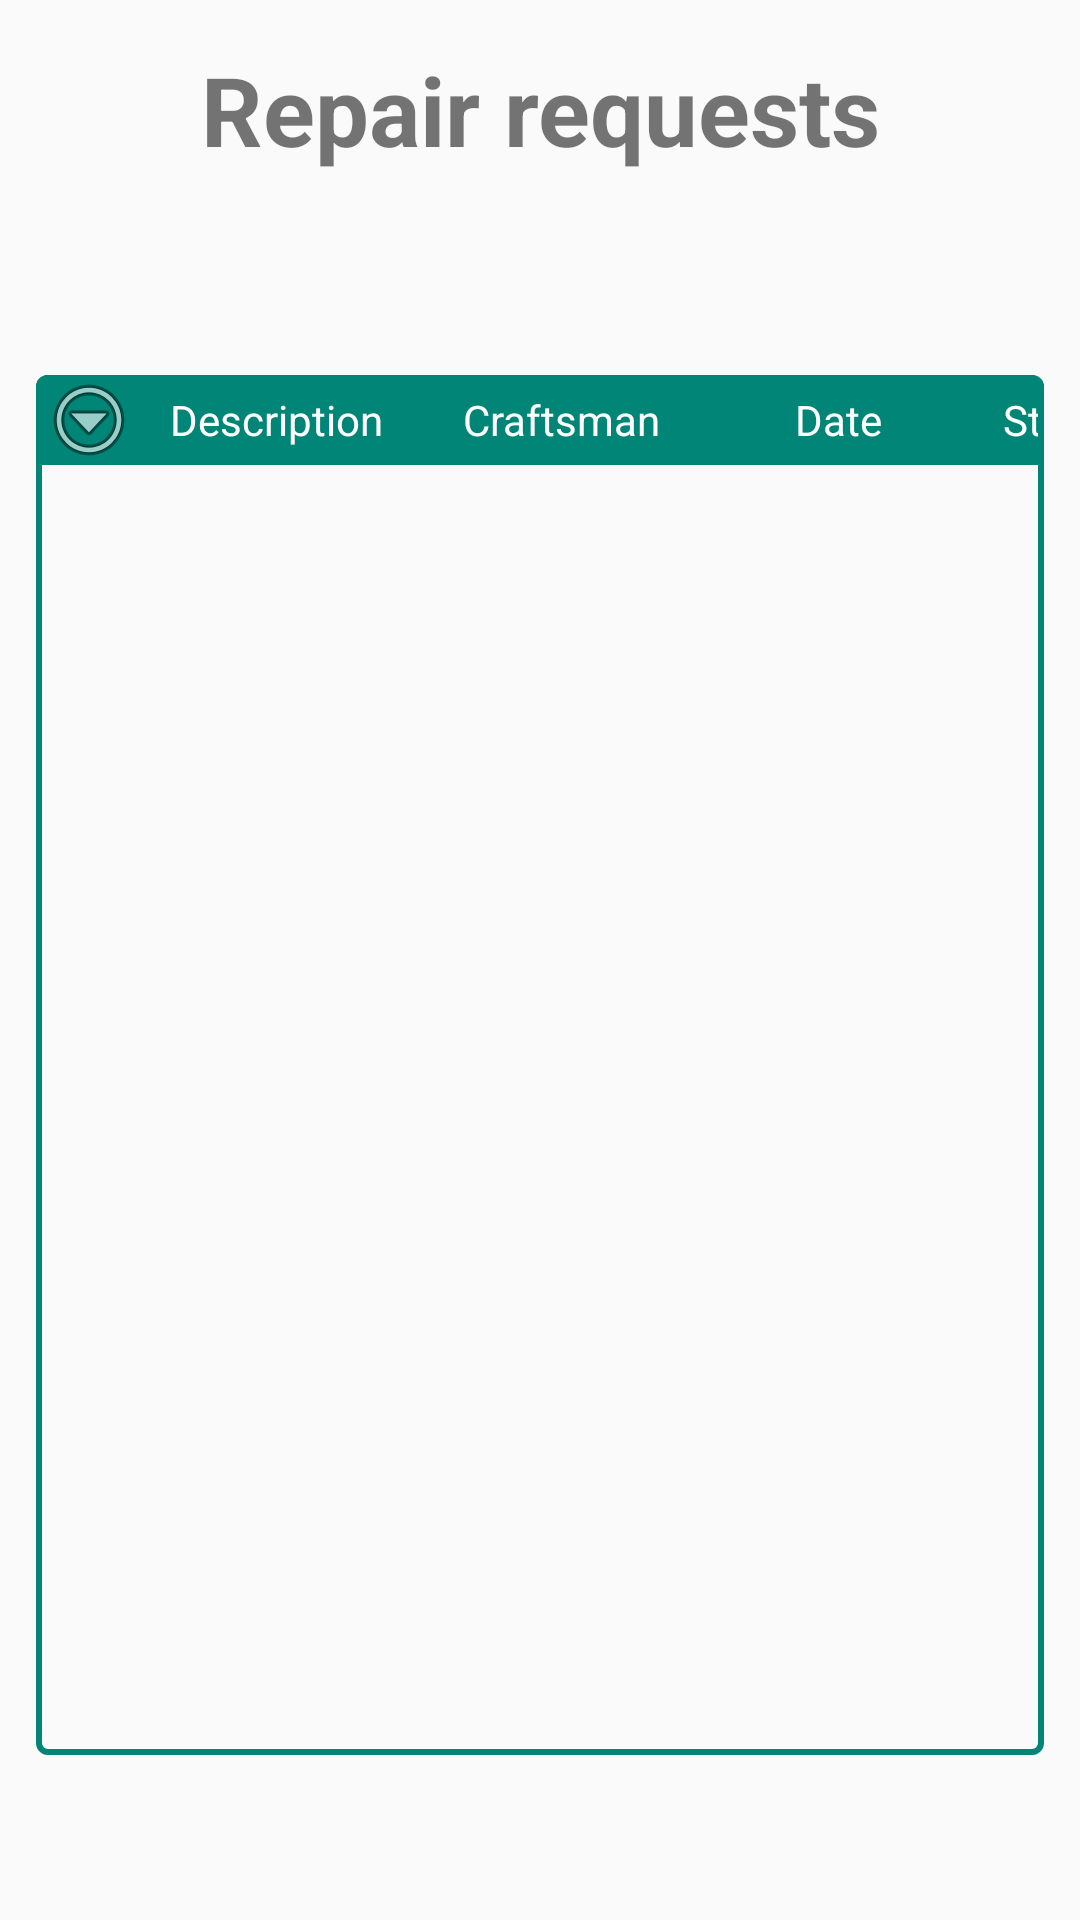

Icons on this 1080 × 1920 Android screen, each with its box as (x1,y1,x2,y2):
more: (36,375,141,465)
